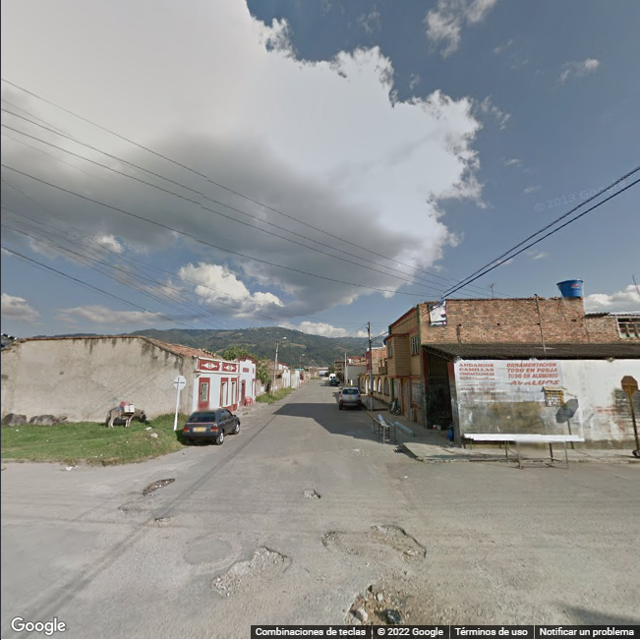D40: (345, 582, 448, 627), (328, 519, 424, 566), (222, 543, 290, 601)
